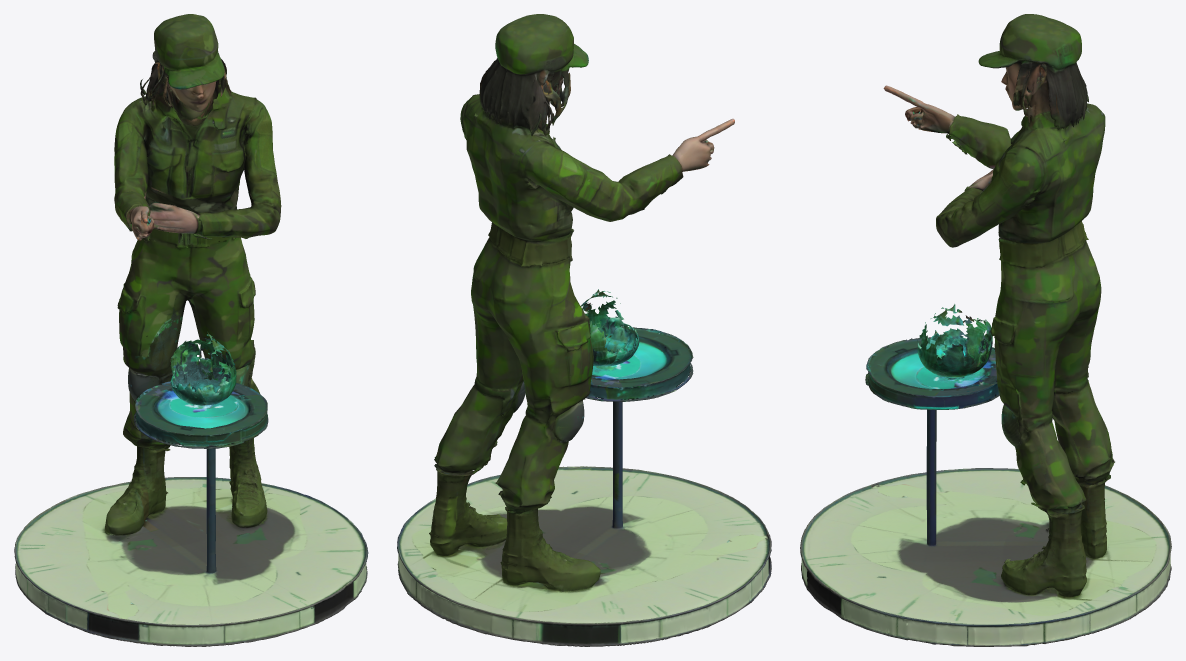
The model's file is Strategic_Directiveglb.glb.
3 views of the same model, side by side, from view 1: azimuth 30°, elevation 25°; view 2: azimuth 150°, elevation 25°; view 3: azimuth 270°, elevation 25° (orthographic). The views are drawn at different scales.
Bounding box in the file's own units: 1.18 × 1.95 × 1.18.
1 material, 1 textured.
